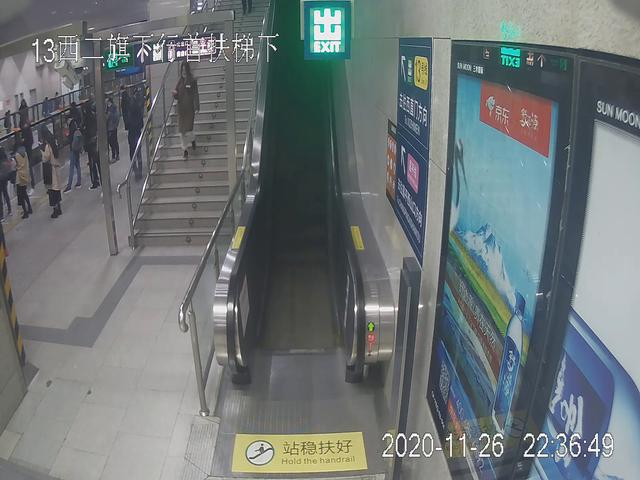person: (173, 58, 203, 160), (9, 138, 36, 221), (60, 115, 88, 193), (42, 130, 63, 221), (106, 96, 124, 166)
